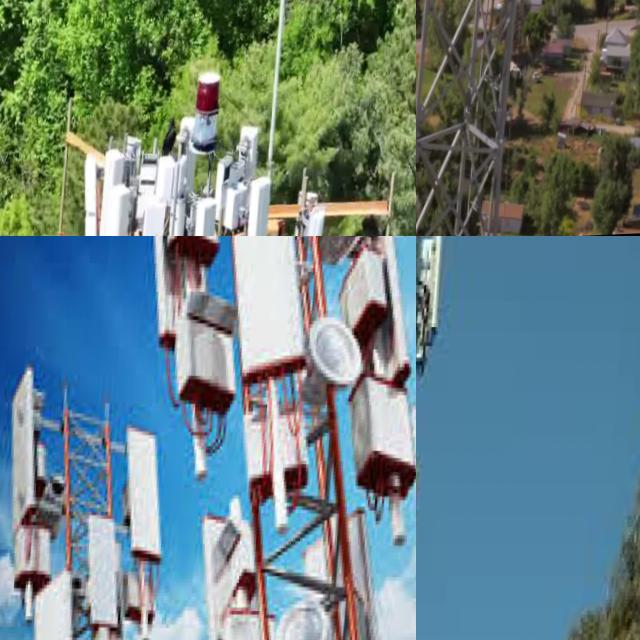GSM Antenna: (211, 236, 328, 391), (114, 425, 174, 563), (0, 366, 50, 524), (79, 509, 129, 640), (24, 579, 94, 640), (87, 175, 139, 236), (235, 170, 281, 236), (74, 150, 108, 236), (422, 236, 446, 351), (93, 145, 125, 218), (182, 195, 223, 236), (416, 465, 425, 635), (295, 202, 329, 236)
Microwave Antenna: (306, 314, 371, 413), (271, 589, 342, 640), (317, 236, 390, 273)
